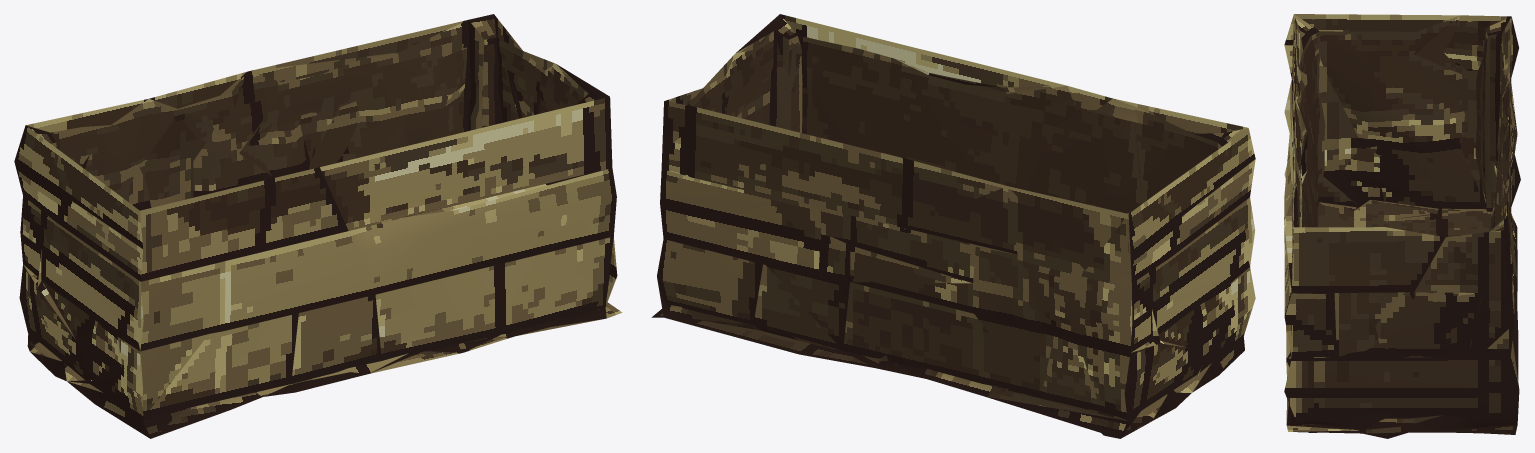
File: planter_box_01.glb
The picture shows the model from 3 angles, left to right: view 1: azimuth 30°, elevation 25°; view 2: azimuth 150°, elevation 25°; view 3: azimuth 270°, elevation 25°; orthographic projection. The views are drawn at different scales.
Parts seen in each view (by area): view 1: mesh; view 2: mesh; view 3: mesh.
Boxes of the visible parts, x1,y1,x2,y2 form: mesh: (14,14,622,438); mesh: (651,14,1255,438); mesh: (1284,14,1520,438).
Size of the model in its own units: 0.9286 by 0.425 by 0.421.
1 material, 1 textured.
